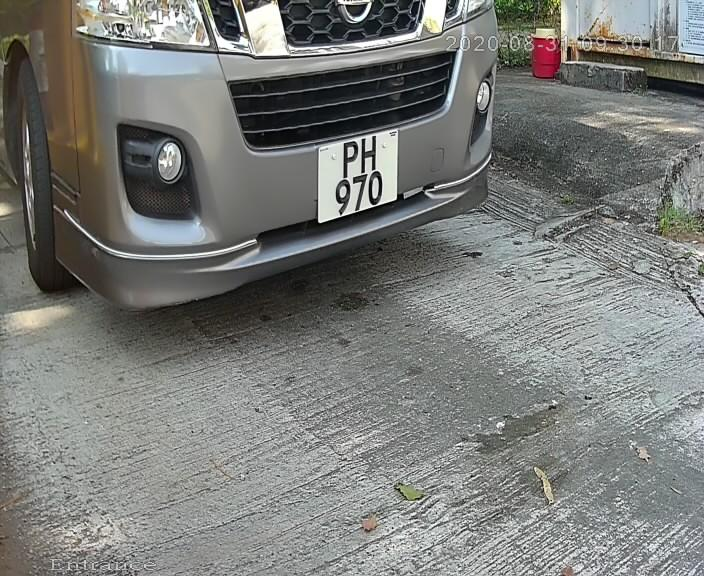License Plate: (305, 121, 406, 229)
